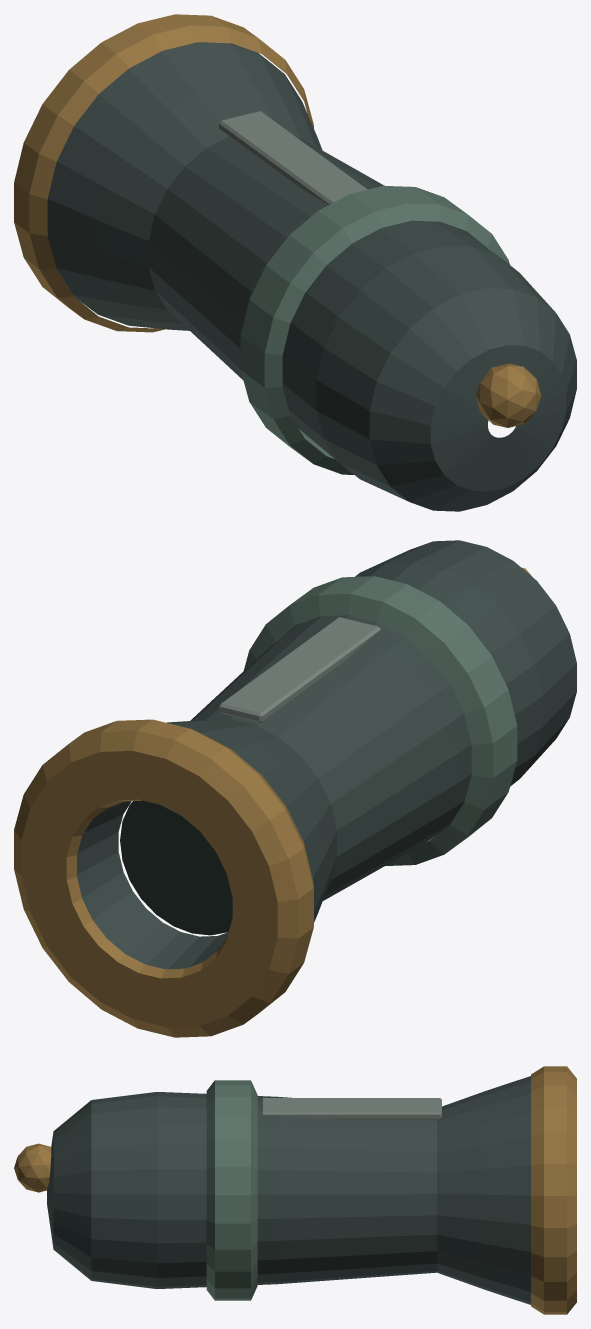
Rendered from gun_barrel.glb.
3 views of the same model, one above another, from view 1: azimuth 30°, elevation 25°; view 2: azimuth 150°, elevation 25°; view 3: azimuth 270°, elevation 25° (orthographic). The views are drawn at different scales.
Parts seen in each view (by area): view 1: Metal, Fabric; view 2: Metal, Fabric, Stone; view 3: Metal, Fabric.
Boxes of the visible parts, x1=… form: Metal: x1=14, y1=14, x2=576, y2=511; Fabric: x1=240, y1=185, x2=509, y2=474; Metal: x1=14, y1=540, x2=576, y2=1037; Fabric: x1=243, y1=576, x2=517, y2=865; Stone: x1=120, y1=800, x2=232, y2=935; Metal: x1=14, y1=1066, x2=576, y2=1314; Fabric: x1=206, y1=1080, x2=257, y2=1300.
Bounding box in the file's own units: 1.08 × 1.08 × 2.46.
